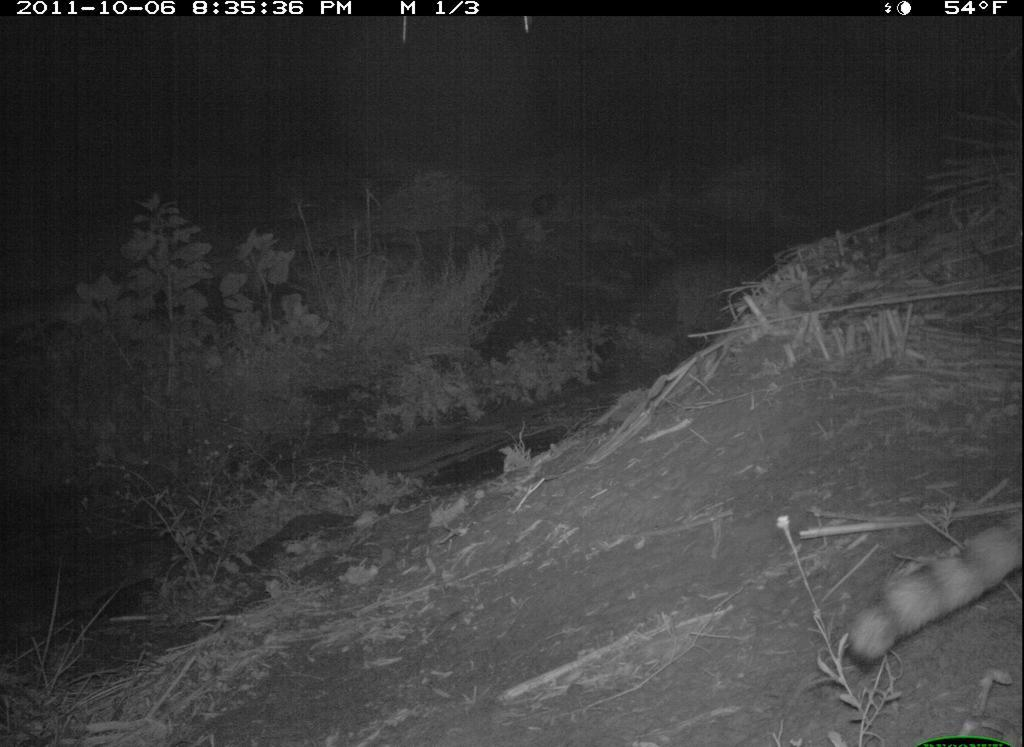raccoon: (833, 499, 1024, 681)
